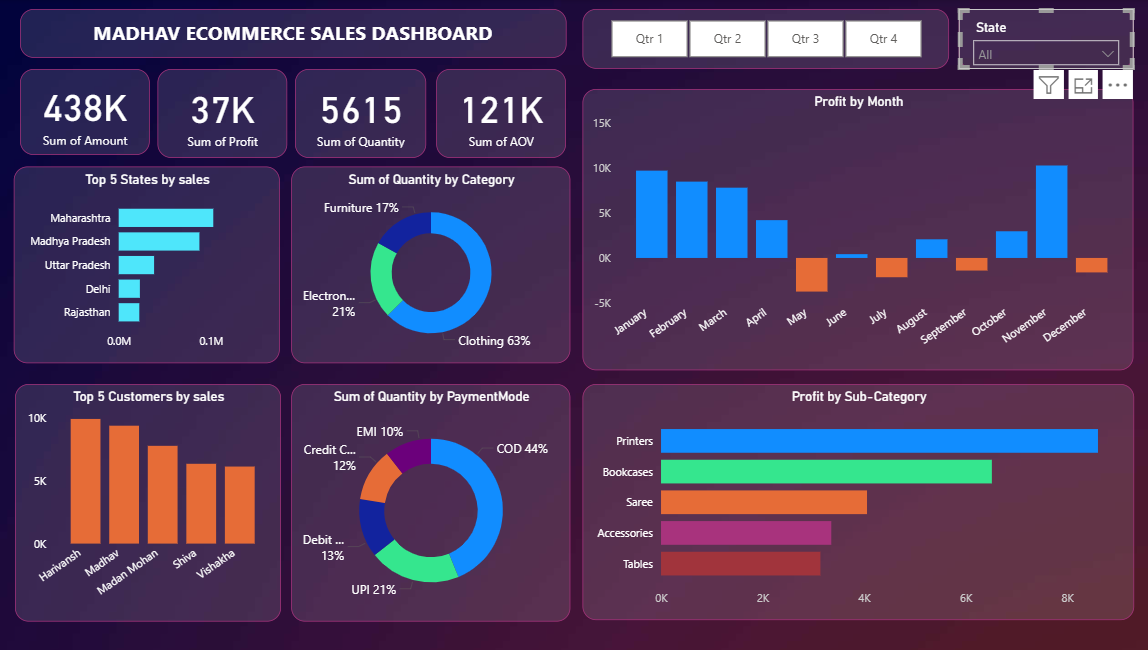

What the dashboard file says about the page in this screenshot:
{"tool":"powerbi","page":{"name":"Page 1","canvas":[1280,720],"ordinal":0},"visuals":[{"type":"textbox","box":[22,11,599.7,53.5],"z":0},{"type":"columnChart","title":"Profit by Month","fields":{"Category":["Orders.Order Date.Variation.Date Hierarchy.Month"],"Y":["Details.Profit"]},"box":[639.5,98.8,605.1,308.7],"z":1000},{"type":"barChart","title":"Profit by Sub-Category","fields":{"Category":["Details.Sub-Category"],"Y":["Details.Profit"]},"box":[639.4,422.3,605.6,259.4],"z":2000},{"type":"donutChart","fields":{"Category":["Details.Category"],"Y":["Details.Quantity"]},"box":[319.7,183.4,306.4,216],"z":3000},{"type":"donutChart","fields":{"Y":["Details.Quantity"],"Category":["Details.PaymentMode"]},"box":[319.7,422.3,306.4,260.6],"z":4000},{"type":"card","fields":{"Values":["Details.Amount"]},"box":[22,76.8,142.7,94.7],"z":5000},{"type":"card","fields":{"Values":["Details.Quantity"]},"box":[323.8,76.8,144.1,97.4],"z":6000},{"type":"card","fields":{"Values":["Details.Profit"]},"box":[172.9,76.8,142.7,97.4],"z":7000},{"type":"card","fields":{"Values":["Details.AOV"]},"box":[478.9,76.8,142.7,97.4],"z":8000},{"type":"barChart","title":"Top 5 States by sales","fields":{"Category":["Orders.State"],"Y":["Details.Amount"]},"box":[15.7,183.4,292,216],"z":9000},{"type":"columnChart","title":"Top 5 Customers by sales","fields":{"Category":["Orders.CustomerName"],"Y":["Details.Amount"]},"box":[16,422,292,261],"z":10000},{"type":"slicer","fields":{"Values":["Orders.Order Date.Variation.Date Hierarchy.Quarter"]},"box":[639.5,11,402.1,65.9],"z":11000},{"type":"slicer","fields":{"Values":["Orders.State"]},"box":[1052.5,11,192.1,65.9],"z":12000}]}

Visuals, with their boxes in screenshot pixels (x1, y1, x2, y2), scaled from the page's 1280x720 canvas onto the 1148x650 screenshot:
textbox: BBox(20, 10, 558, 58)
"Profit by Month" columnChart: BBox(574, 89, 1116, 368)
"Profit by Sub-Category" barChart: BBox(573, 381, 1117, 615)
donutChart - Details.Category x Details.Quantity: BBox(287, 166, 562, 361)
donutChart - Details.Quantity x Details.PaymentMode: BBox(287, 381, 562, 617)
card - Details.Amount: BBox(20, 69, 148, 155)
card - Details.Quantity: BBox(290, 69, 420, 157)
card - Details.Profit: BBox(155, 69, 283, 157)
card - Details.AOV: BBox(430, 69, 557, 157)
"Top 5 States by sales" barChart: BBox(14, 166, 276, 361)
"Top 5 Customers by sales" columnChart: BBox(14, 381, 276, 617)
slicer - Orders.Order Date.Variation.Date Hierarchy.Quarter: BBox(574, 10, 934, 69)
slicer - Orders.State: BBox(944, 10, 1116, 69)
